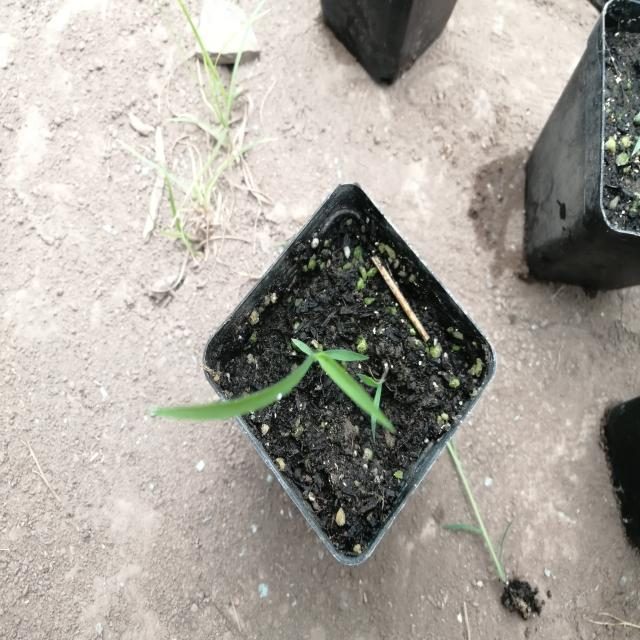crabgrass: (142, 302, 385, 443)
